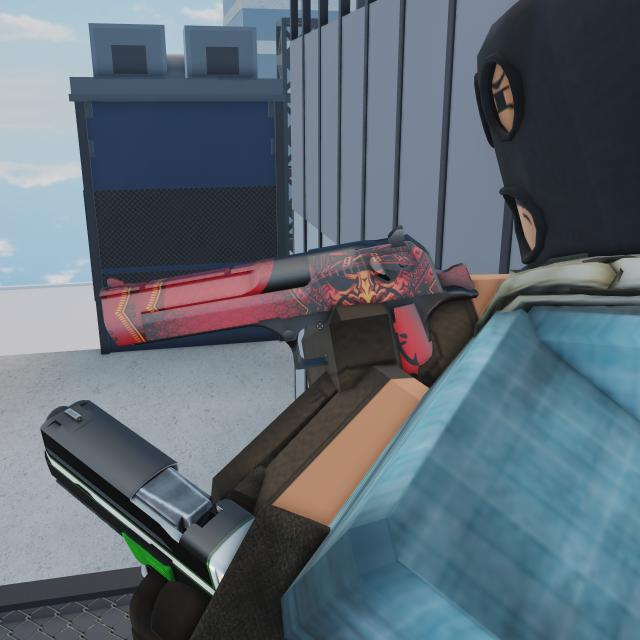Head: (476, 2, 640, 262)
Player: (214, 0, 640, 640)
